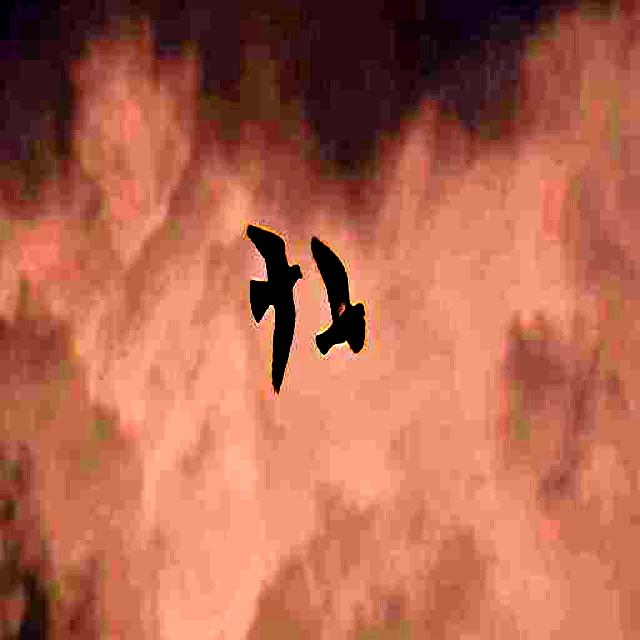airplane: (310, 191, 382, 424), (236, 202, 304, 415)
